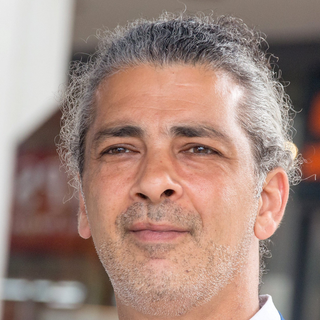eye: (176, 139, 226, 163), (98, 140, 144, 163)
